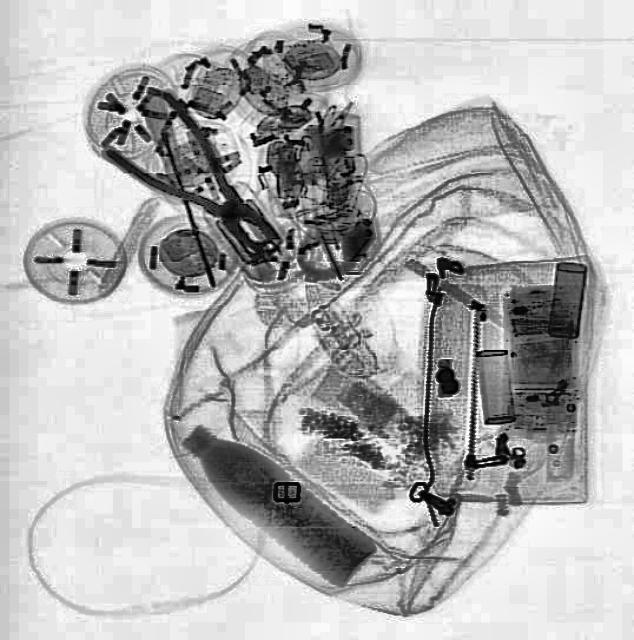Pliers: (96, 85, 304, 278)
